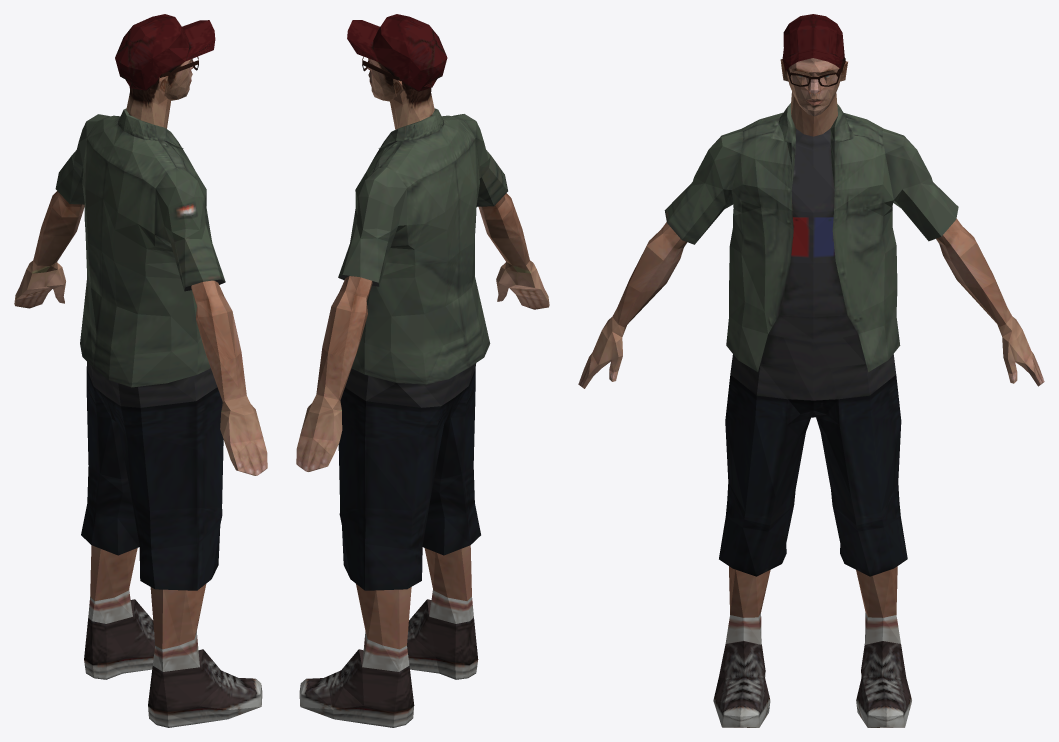
Rendered from zero.obj.
3 renders of one model, left to right at view 1: azimuth 30°, elevation 25°; view 2: azimuth 150°, elevation 25°; view 3: azimuth 270°, elevation 25°, orthographic.
Parts seen in each view (by area): view 1: _Pelvis; view 2: _Pelvis; view 3: _Pelvis.
Boxes of the visible parts, x1,y1,x2,y2 form: _Pelvis: (14,14,267,727); _Pelvis: (296,14,549,727); _Pelvis: (578,14,1044,727).
Bounding box in the file's own units: 0.3868 × 1.86 × 1.15.
Materials: 1 (1 with a texture image).
